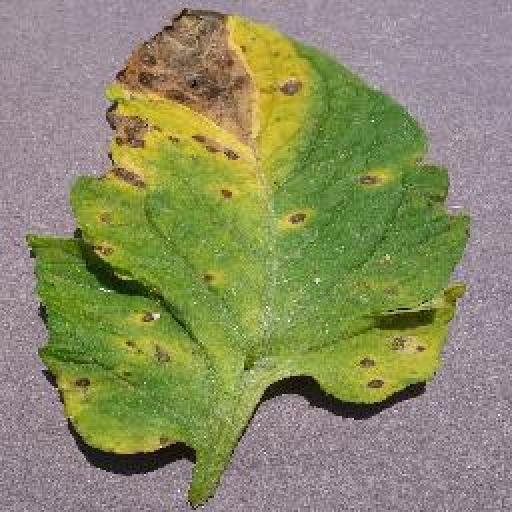disease_tomato: (30, 11, 473, 457)
